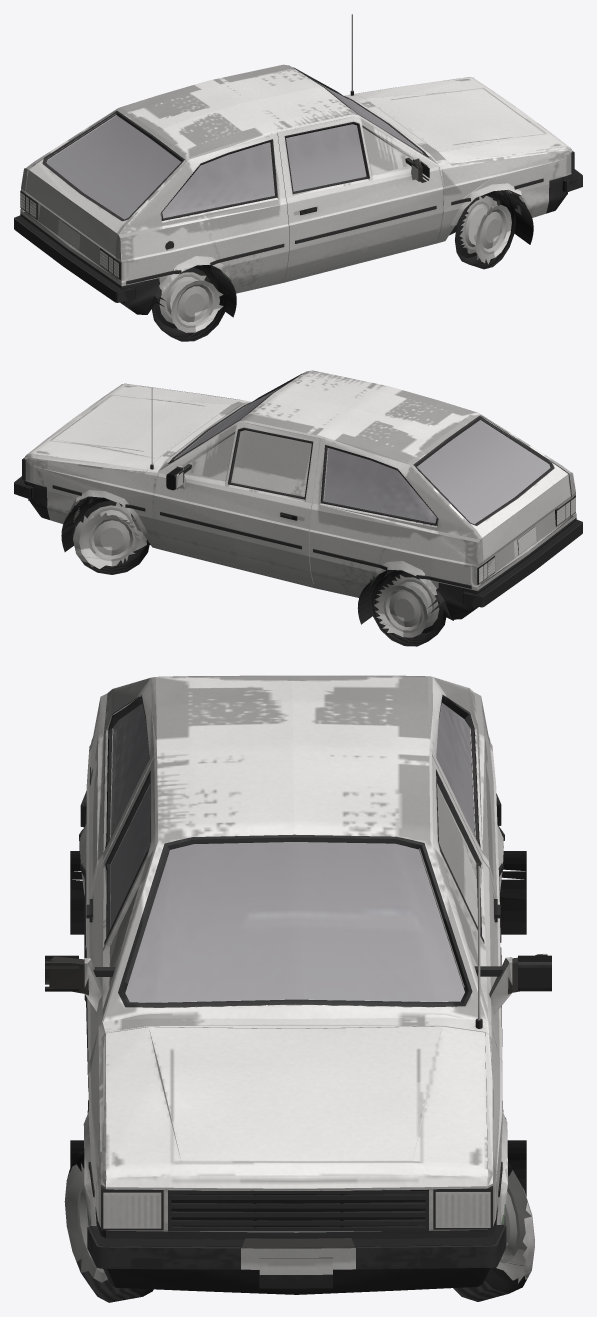
The model's file is gol-quadrado.glb.
The picture shows the model from 3 angles, top to bottom: view 1: azimuth 30°, elevation 25°; view 2: azimuth 150°, elevation 25°; view 3: azimuth 270°, elevation 25°; orthographic projection. The views are drawn at different scales.
Parts seen in each view (by area): view 1: body, door_fr, hood, glass_rear, fender_front_right, trunk, glass_door_rr, glass_door_fr, bumper_rear, wheel_rr_rim, wheel_fr_rim, wheel_rr_tire (+3 smaller); view 2: body, door_fl, hood, glass_rear, fender_front_left, trunk, glass_door_rl, wheel_fl_rim, bumper_rear, wheel_rl_rim, wheel_rl_tire, wheel_fl_tire (+5 smaller); view 3: body, hood, glass_windshield, bumper_front, grille, door_fr, door_fl, fender_front_right, glass_door_rr, glass_door_rl, plate_front, wheel_fl_rim (+8 smaller).
Part boxes in pixels (x1=…): body: x1=20, y1=14, x2=571, y2=317; door_fr: x1=284, y1=121, x2=443, y2=277; hood: x1=355, y1=77, x2=572, y2=164; glass_rear: x1=46, y1=115, x2=180, y2=219; fender_front_right: x1=423, y1=148, x2=549, y2=242; trunk: x1=26, y1=110, x2=185, y2=257; glass_door_rr: x1=162, y1=142, x2=274, y2=218; glass_door_fr: x1=286, y1=124, x2=366, y2=191; bumper_rear: x1=14, y1=213, x2=161, y2=314; wheel_rr_rim: x1=159, y1=272, x2=223, y2=332; wheel_fr_rim: x1=456, y1=195, x2=511, y2=264; wheel_rr_tire: x1=151, y1=265, x2=231, y2=341; body: x1=24, y1=370, x2=576, y2=624; door_fl: x1=153, y1=427, x2=312, y2=583; hood: x1=24, y1=383, x2=241, y2=473; glass_rear: x1=417, y1=420, x2=550, y2=524; fender_front_left: x1=47, y1=455, x2=170, y2=548; trunk: x1=413, y1=415, x2=570, y2=561; glass_door_rl: x1=324, y1=448, x2=436, y2=523; wheel_fl_rim: x1=73, y1=502, x2=146, y2=568; bumper_rear: x1=436, y1=517, x2=582, y2=619; wheel_rl_rim: x1=374, y1=575, x2=439, y2=637; wheel_rl_tire: x1=369, y1=570, x2=446, y2=646; wheel_fl_tire: x1=68, y1=496, x2=149, y2=574; body: x1=49, y1=675, x2=547, y2=1288; hood: x1=103, y1=1026, x2=493, y2=1190; glass_windshield: x1=125, y1=842, x2=464, y2=1002; bumper_front: x1=87, y1=1206, x2=506, y2=1294; grille: x1=168, y1=1189, x2=428, y2=1231; door_fr: x1=85, y1=770, x2=150, y2=1091; door_fl: x1=436, y1=769, x2=502, y2=1060; fender_front_right: x1=83, y1=1013, x2=172, y2=1225; glass_door_rr: x1=111, y1=703, x2=149, y2=836; glass_door_rl: x1=436, y1=702, x2=474, y2=835; plate_front: x1=241, y1=1247, x2=355, y2=1274; wheel_fl_rim: x1=496, y1=1170, x2=534, y2=1283.
Bounding box in the file's own units: 3.81 × 1.49 × 1.77.
Materials: 9 (8 with a texture image).
